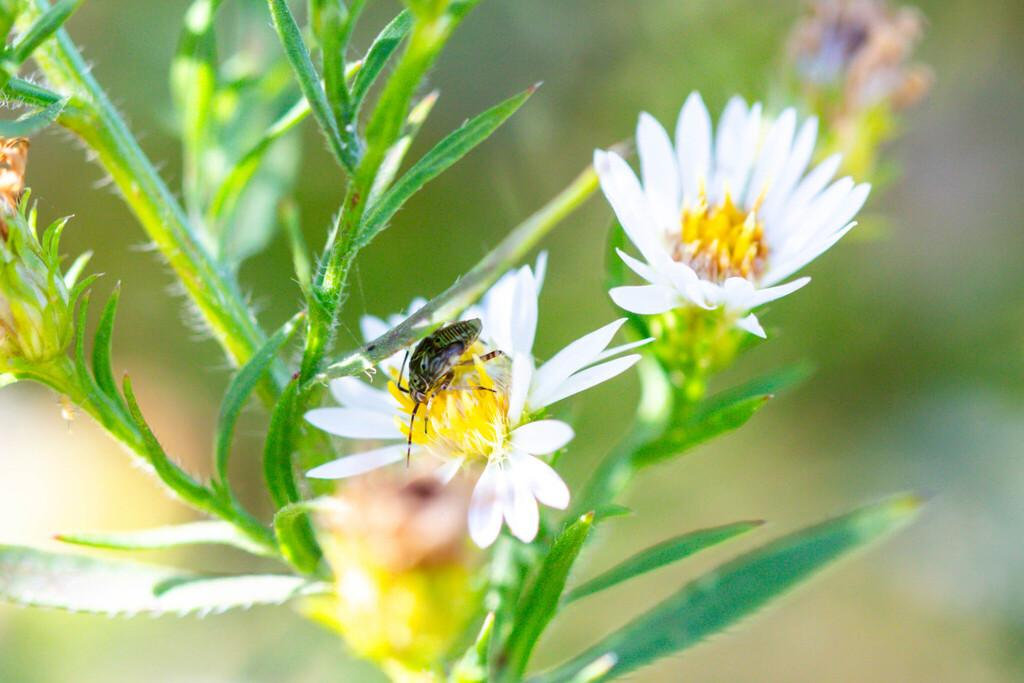plant_bugs: (354, 275, 531, 486)
